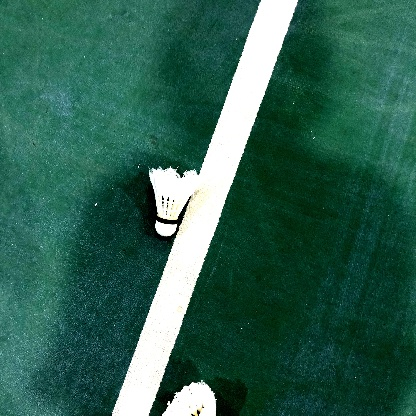ball_single: (149, 168, 200, 237), (162, 381, 216, 416)
